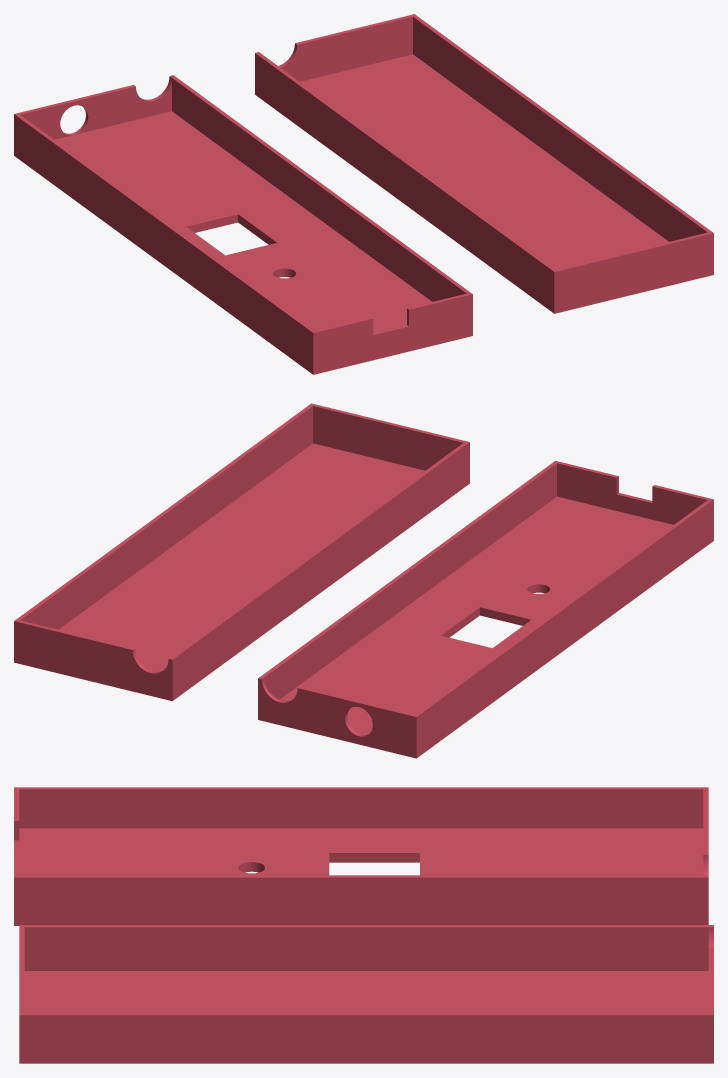
The model's file is case prototyp.glb.
3 views of the same model, one above another, from view 1: azimuth 30°, elevation 25°; view 2: azimuth 150°, elevation 25°; view 3: azimuth 270°, elevation 25° (orthographic). The views are drawn at different scales.
Visible parts, largest first — view 1: Mesh_Mesh_head_geo.001_lambert2SG.001; view 2: Mesh_Mesh_head_geo.001_lambert2SG.001; view 3: Mesh_Mesh_head_geo.001_lambert2SG.001.
Part boxes in pixels (x1=…): Mesh_Mesh_head_geo.001_lambert2SG.001: x1=14, y1=14, x2=713, y2=374; Mesh_Mesh_head_geo.001_lambert2SG.001: x1=14, y1=403, x2=713, y2=758; Mesh_Mesh_head_geo.001_lambert2SG.001: x1=14, y1=787, x2=713, y2=1063.
Bounding box in the file's own units: 0.101 × 0.01 × 0.131.
